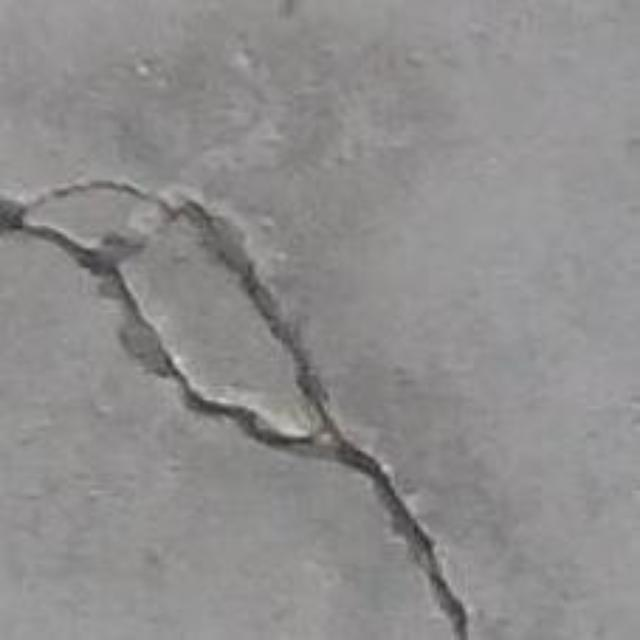crack: (0, 178, 468, 639)
